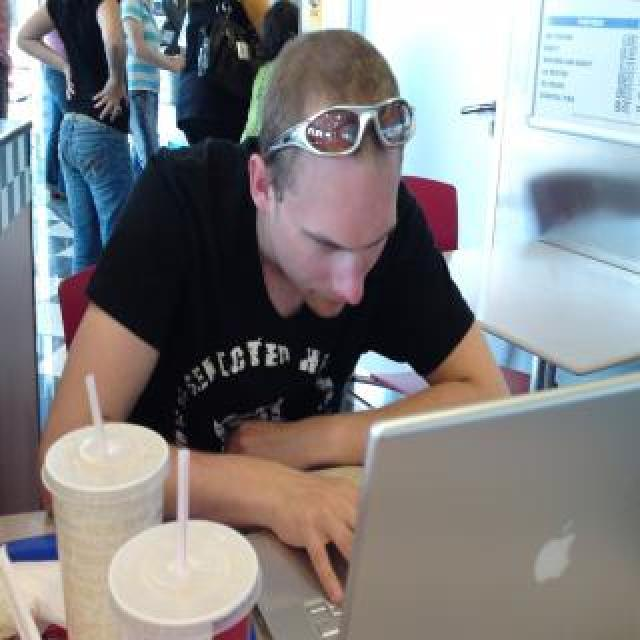laptop_computer: (236, 396, 640, 640)
